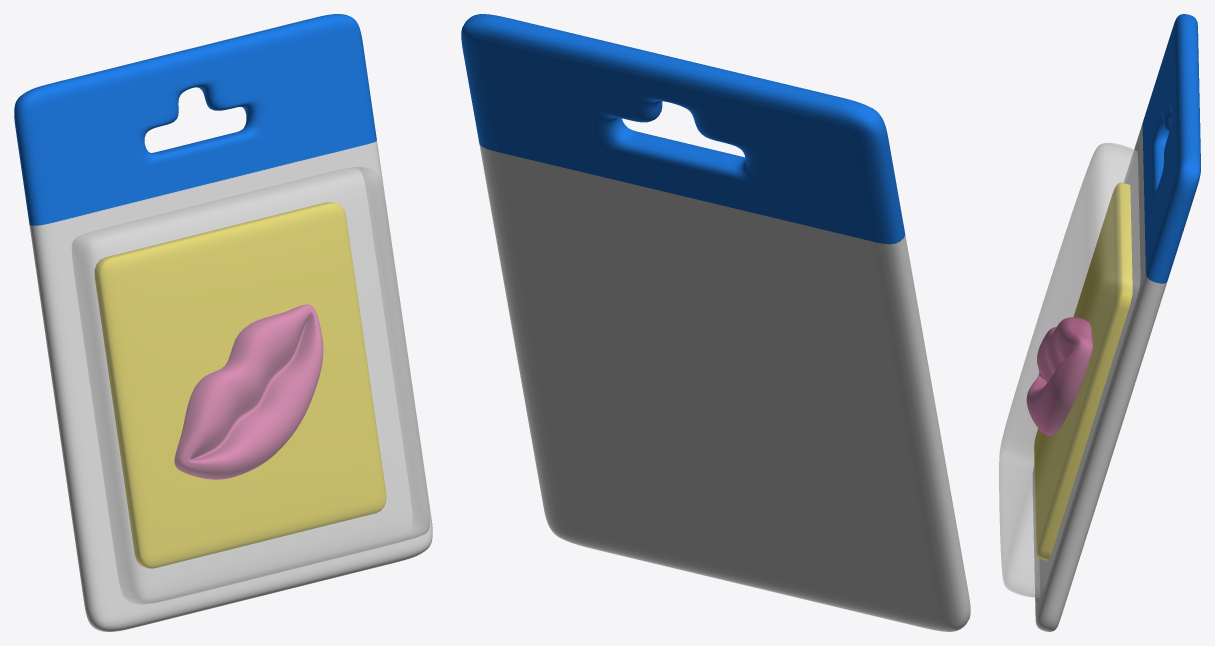
Rendered from lips-mask-3d-animated-icon-1274307495793.glb.
3 renders of one model, left to right at view 1: azimuth 30°, elevation 25°; view 2: azimuth 150°, elevation 25°; view 3: azimuth 270°, elevation 25°, orthographic. The views are drawn at different scales.
Parts seen in each view (by area): view 1: Cube.021, Plane.006, Cube.006, Plane.004; view 2: Plane.006; view 3: Cube.021, Plane.006, Cube.006, Plane.004.
Part boxes in pixels (x1,y1,x2,y2): Cube.021: (72, 166, 429, 604); Plane.006: (14, 14, 432, 631); Cube.006: (94, 202, 386, 568); Plane.004: (174, 304, 323, 479); Plane.006: (461, 14, 970, 631); Cube.021: (999, 142, 1140, 597); Plane.006: (1033, 14, 1200, 631); Cube.006: (1034, 182, 1132, 560); Plane.004: (1026, 317, 1092, 435).
Size of the model in its own units: 3.22 by 4.33 by 1.68.
